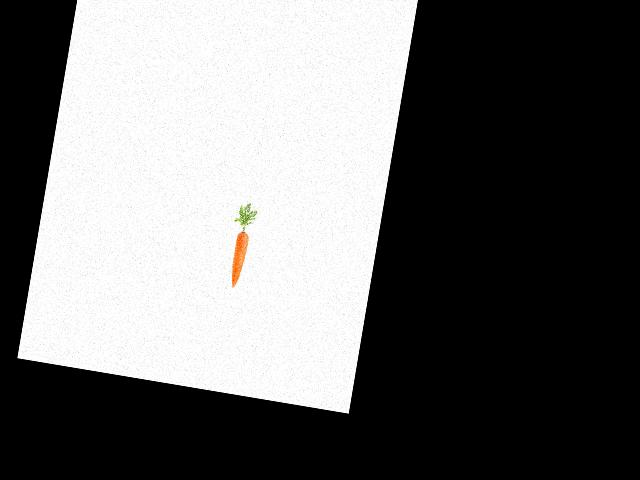carrot: (226, 228, 251, 291)
